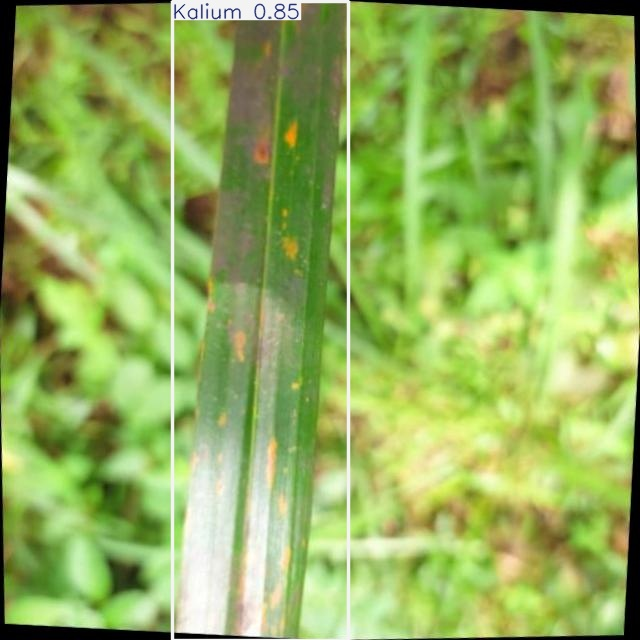Kalium: (172, 1, 348, 640)
